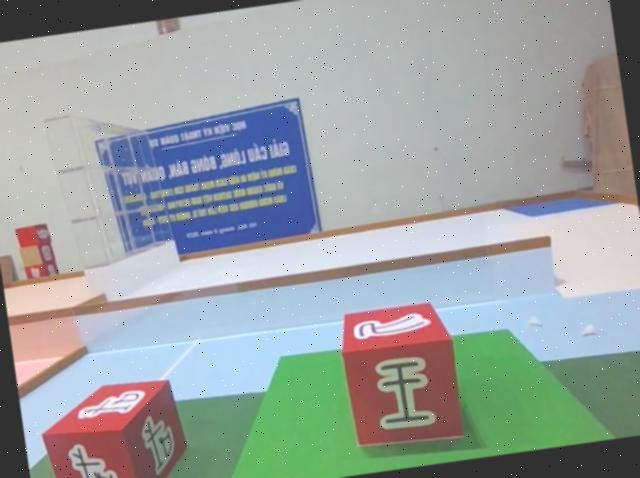R2 Fake: (333, 295, 471, 457)
R2 Real: (36, 371, 195, 478)
